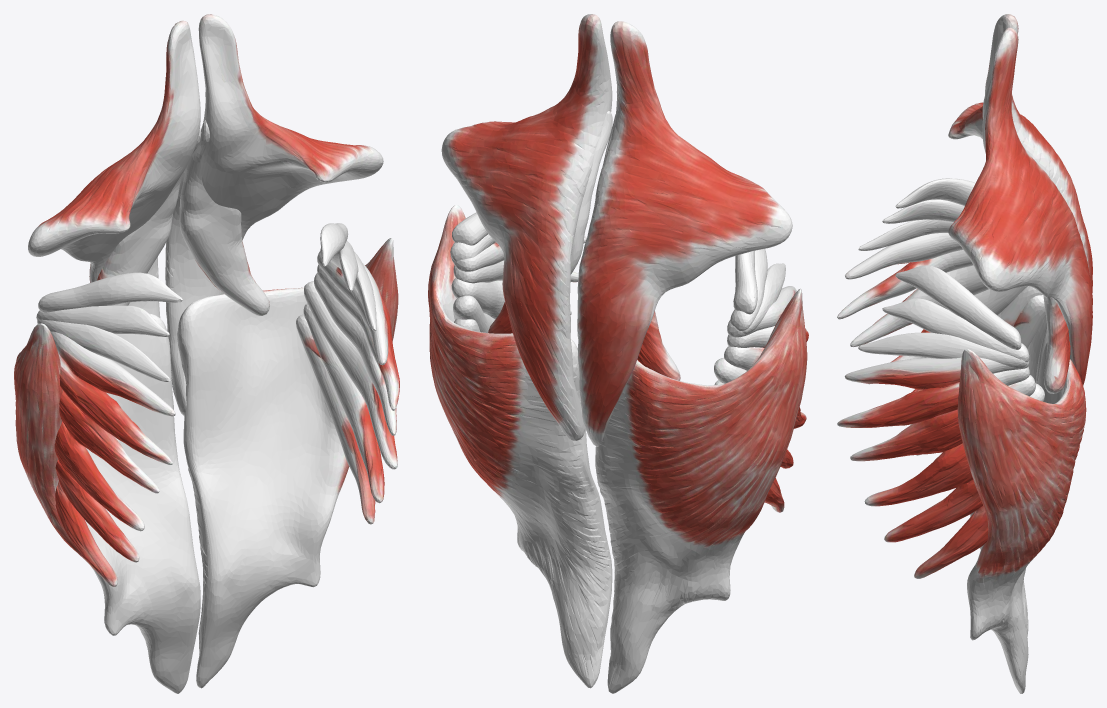
Rendered from SubTool-4-11445353.OBJ.
3 views of the same model, side by side, from view 1: azimuth 30°, elevation 25°; view 2: azimuth 150°, elevation 25°; view 3: azimuth 270°, elevation 25° (orthographic).
Parts seen in each view (by area): view 1: Group54454; view 2: Group54454; view 3: Group54454.
Part boxes in pixels (bbox=[...]): Group54454: bbox=[14, 14, 399, 693]; Group54454: bbox=[428, 14, 808, 693]; Group54454: bbox=[837, 14, 1092, 693].
Size of the model in its own units: 14.62 by 25.35 by 8.83.
Materials: 1 (1 with a texture image).
